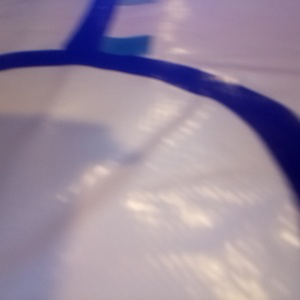top_right: (78, 34, 149, 64)
